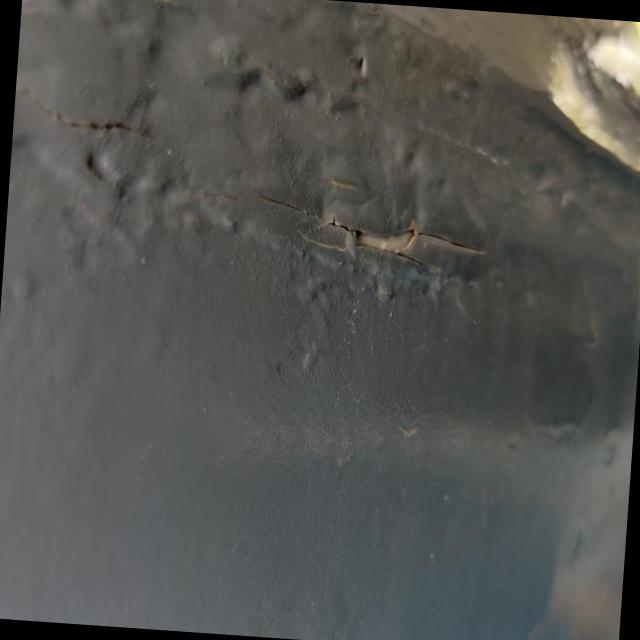Crack: (252, 190, 487, 279)
